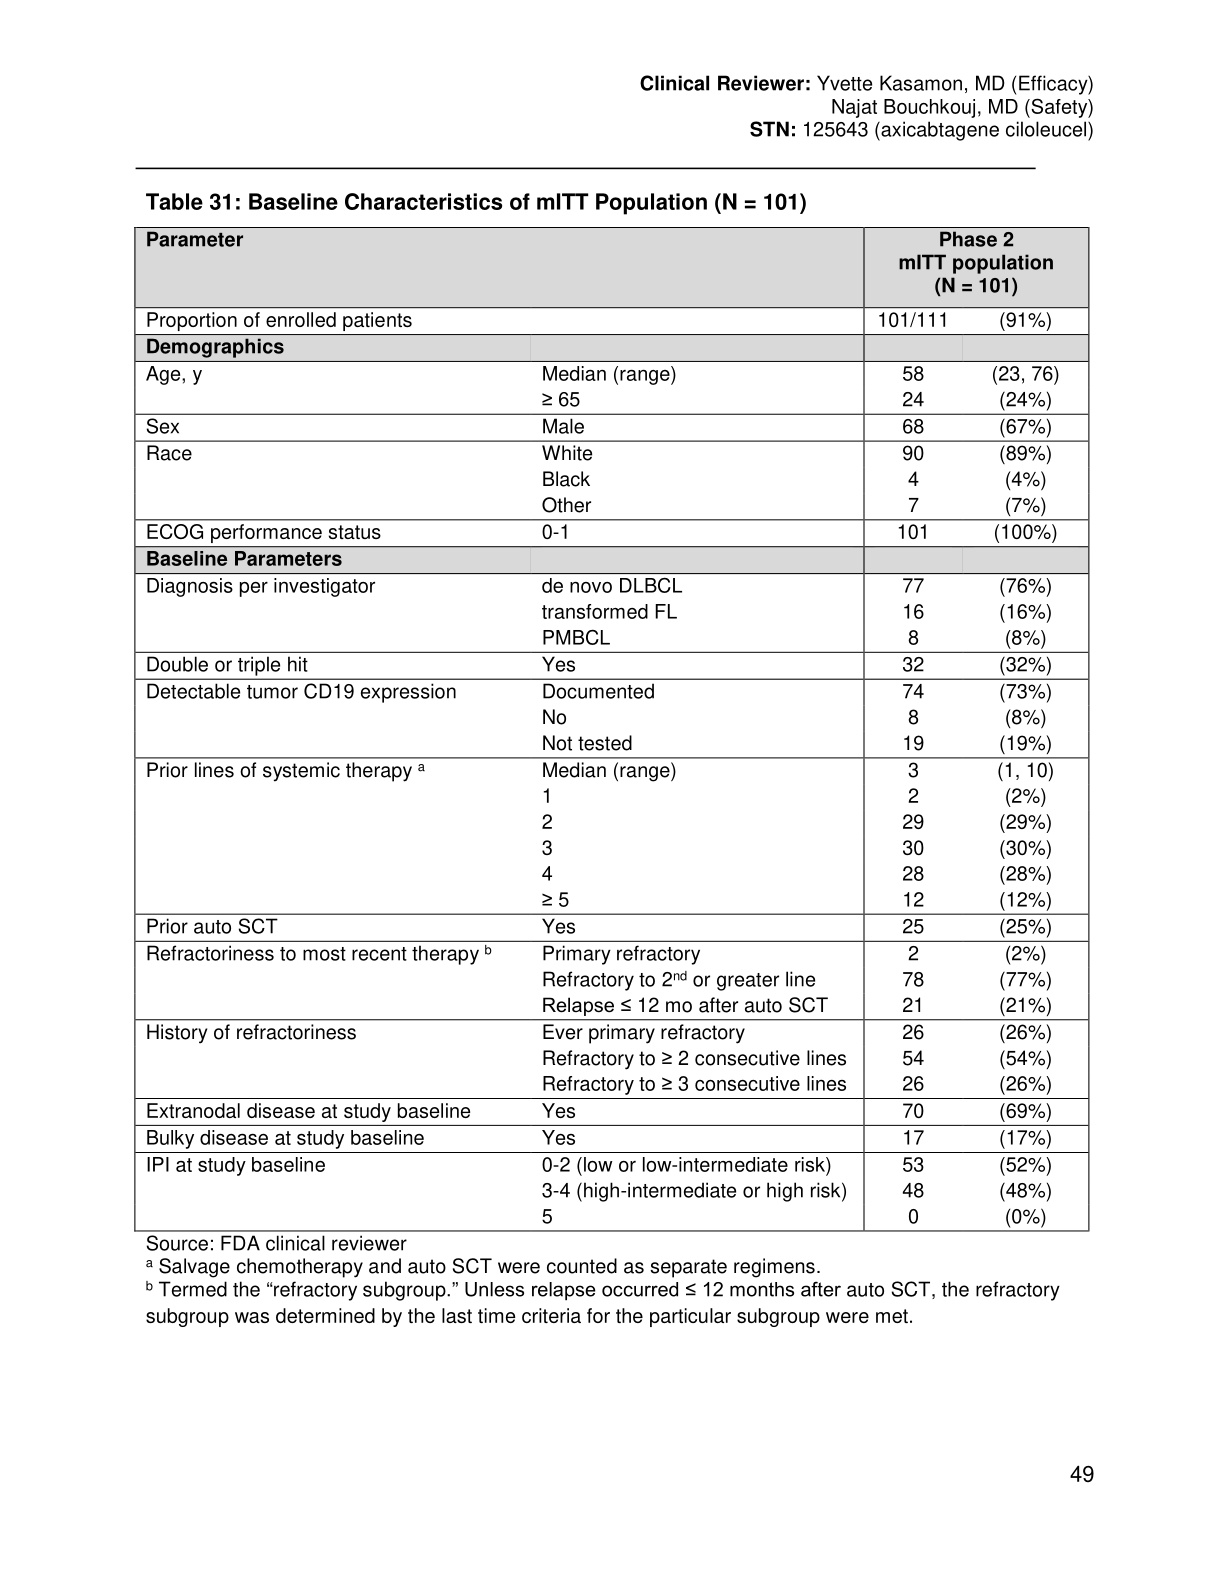partial_lined_merged_cells: (131, 228, 1092, 1233)
